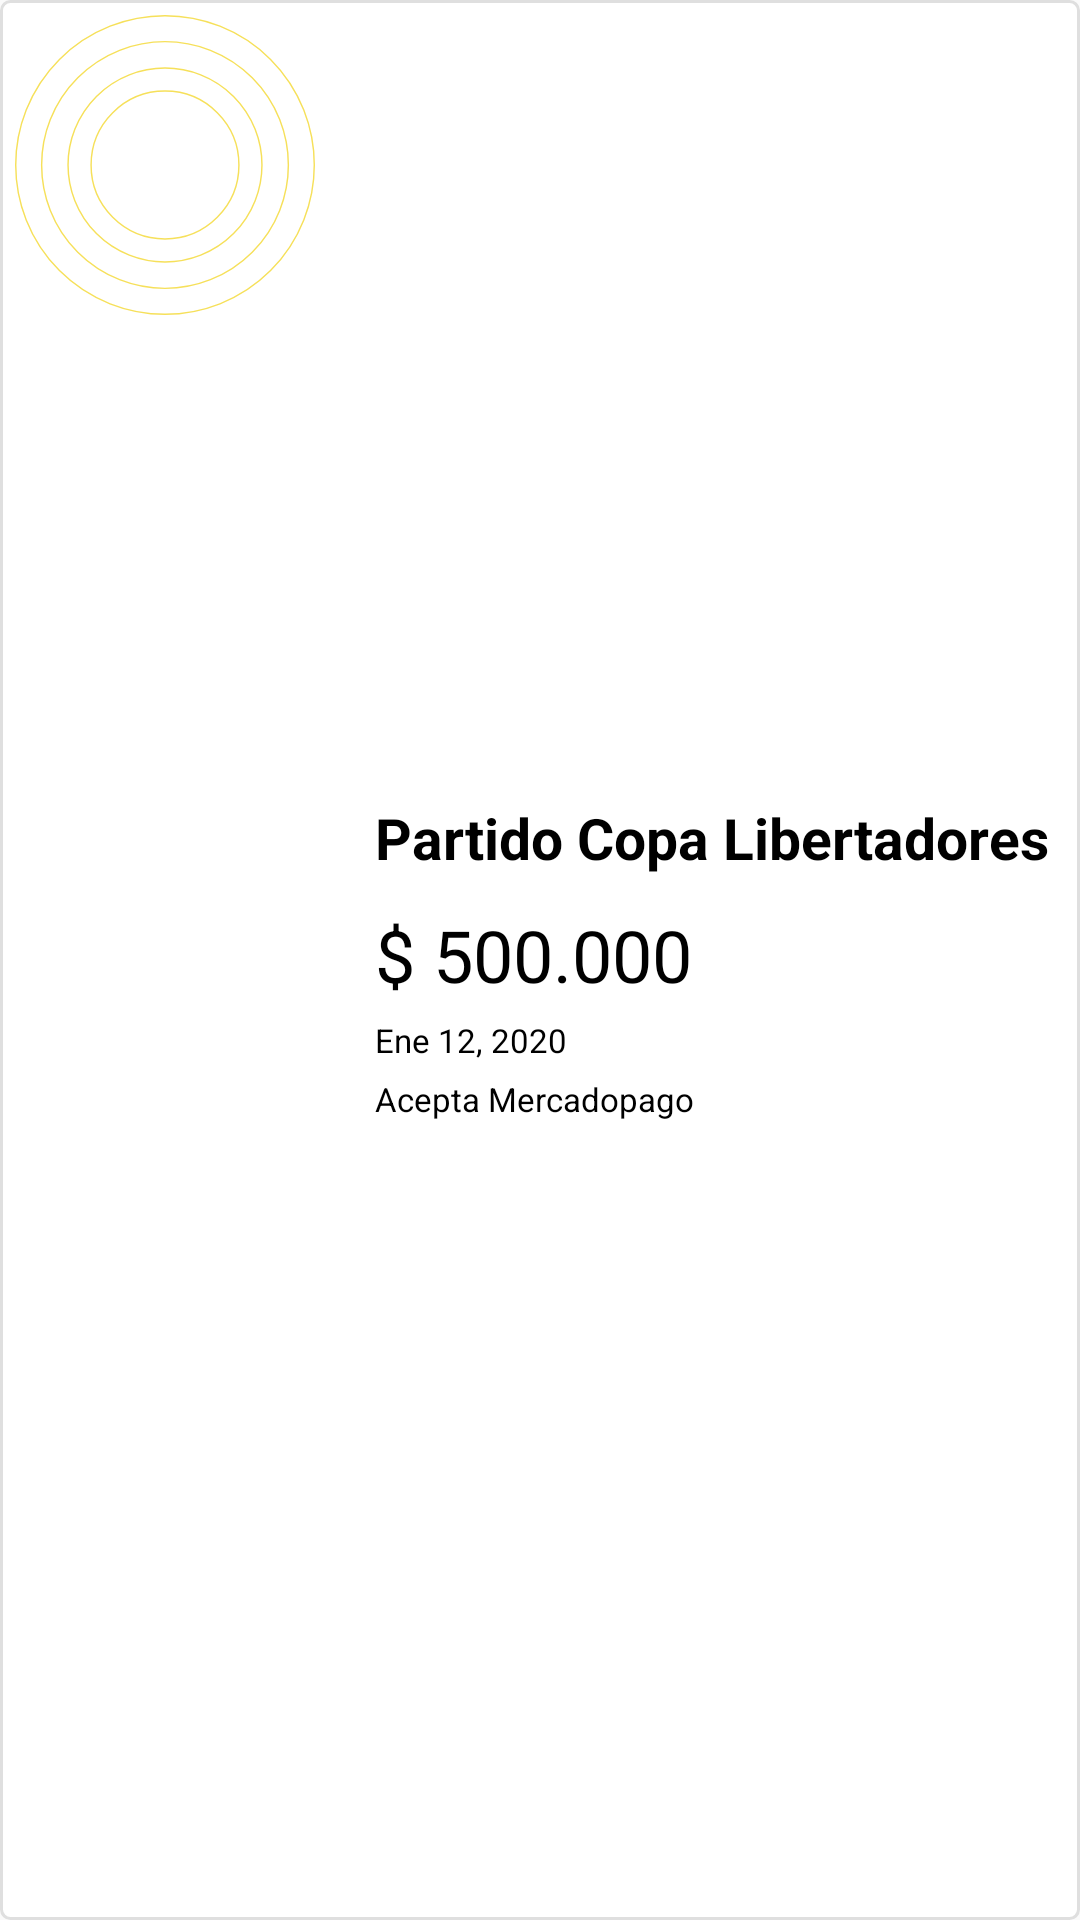

Icon click points for this 1080 x 1920 phone screenshot, format [x,y]:
spiral spash: [165,165]
